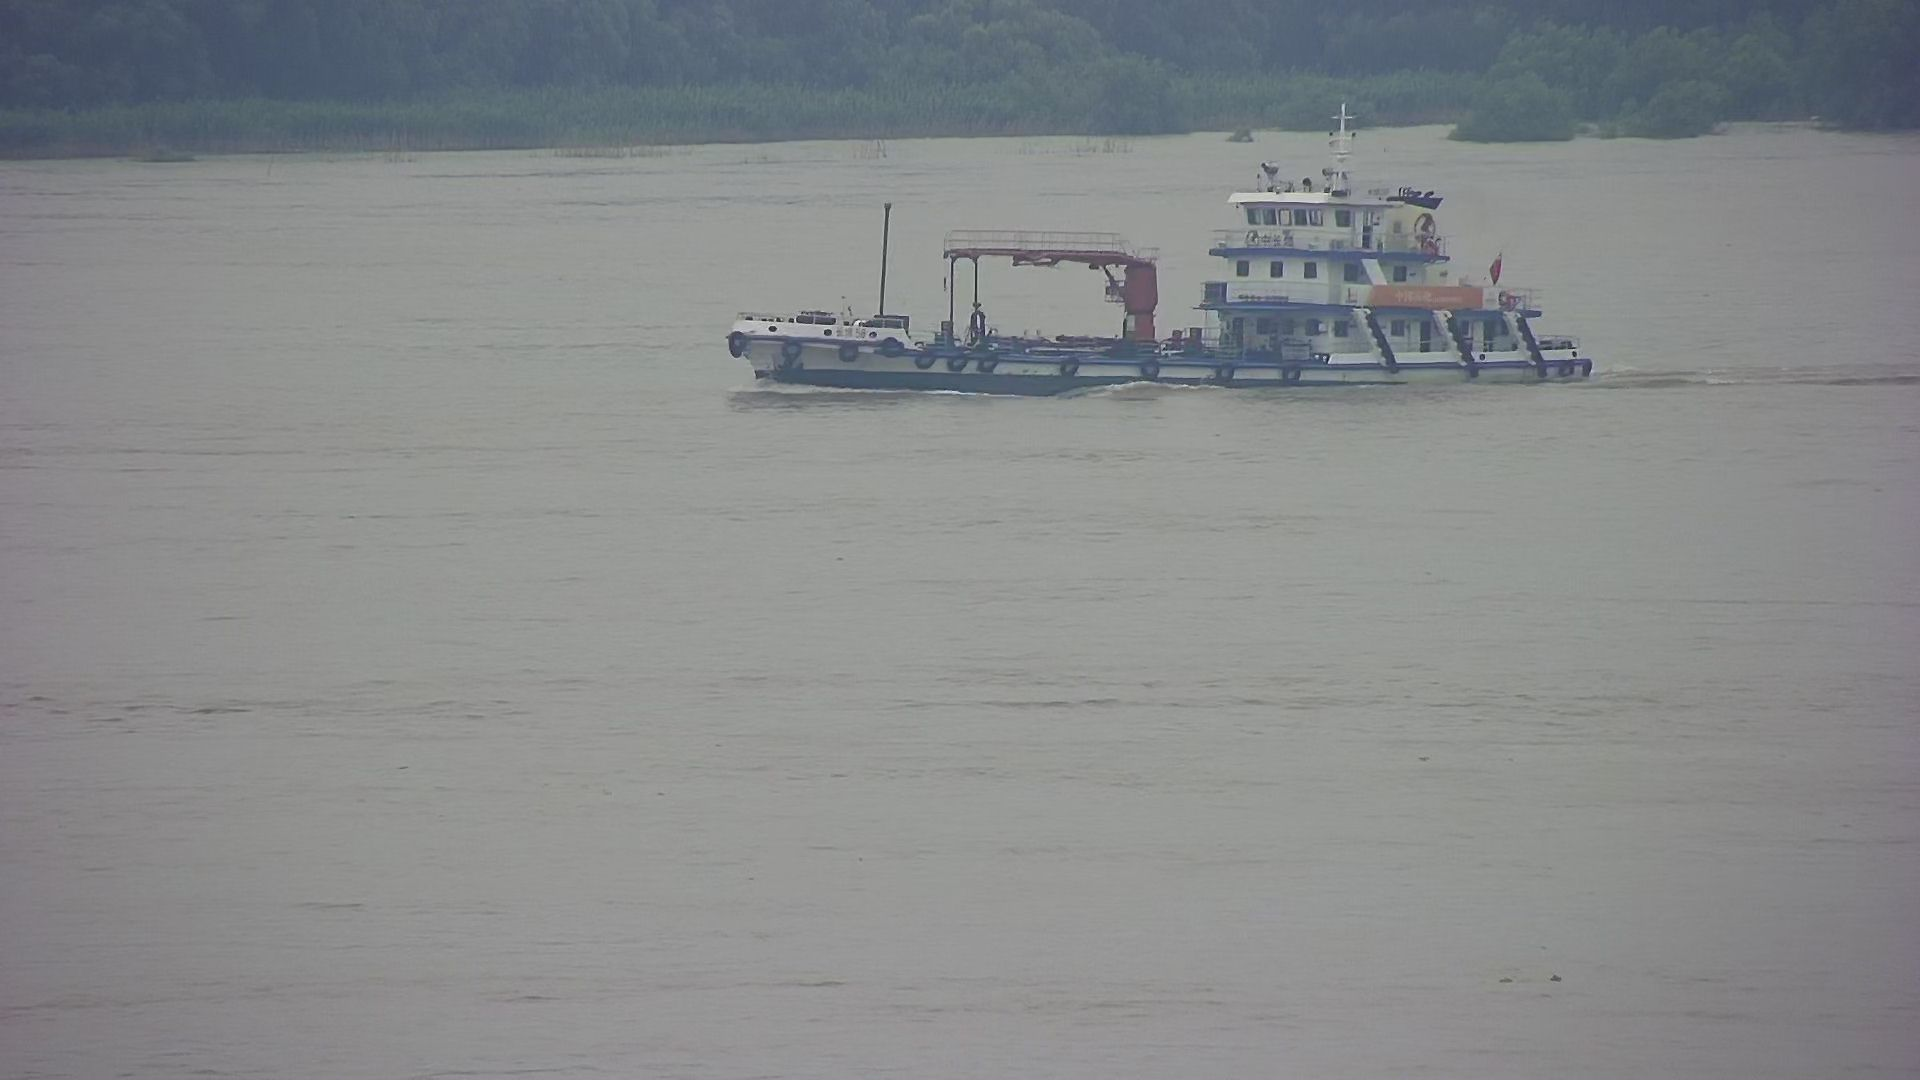ship: (702, 91, 1636, 427)
